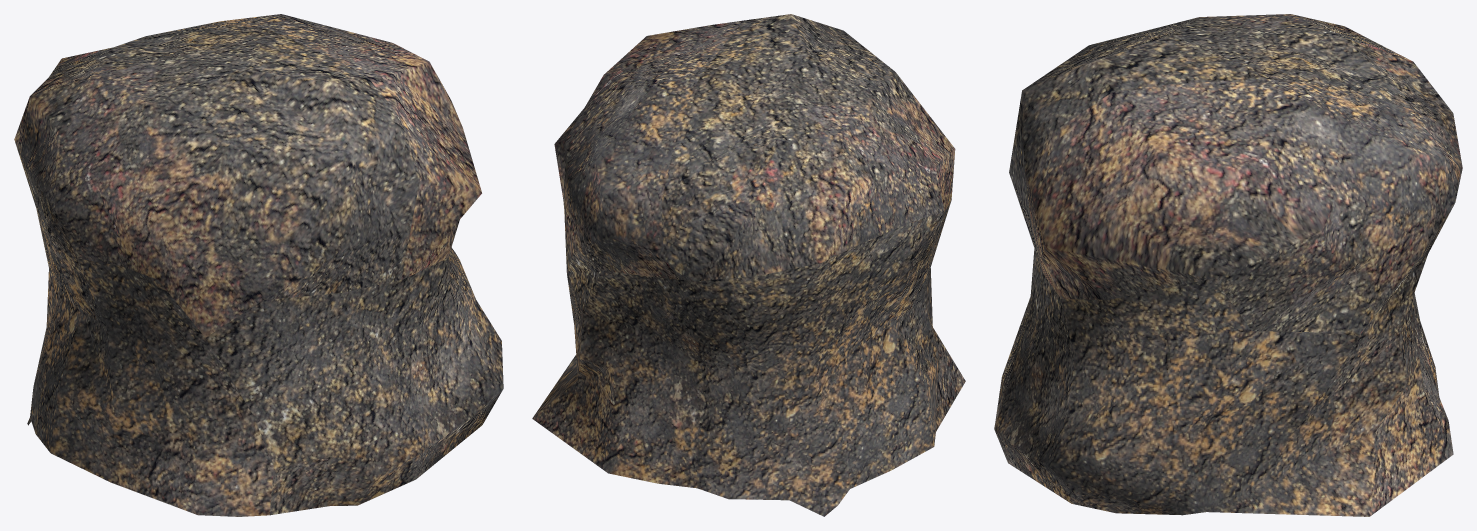
File: rock-01.FBX
The picture shows the model from 3 angles, left to right: view 1: azimuth 30°, elevation 25°; view 2: azimuth 150°, elevation 25°; view 3: azimuth 270°, elevation 25°; orthographic projection. The views are drawn at different scales.
Visible parts, largest first — view 1: Box001; view 2: Box001; view 3: Box001.
Part boxes in pixels (x1,y1,x2,y2): Box001: (14, 14, 503, 516); Box001: (532, 14, 965, 516); Box001: (994, 14, 1462, 516).
Size of the model in its own units: 130 by 125 by 129.
Materials: 1 (1 with a texture image).
